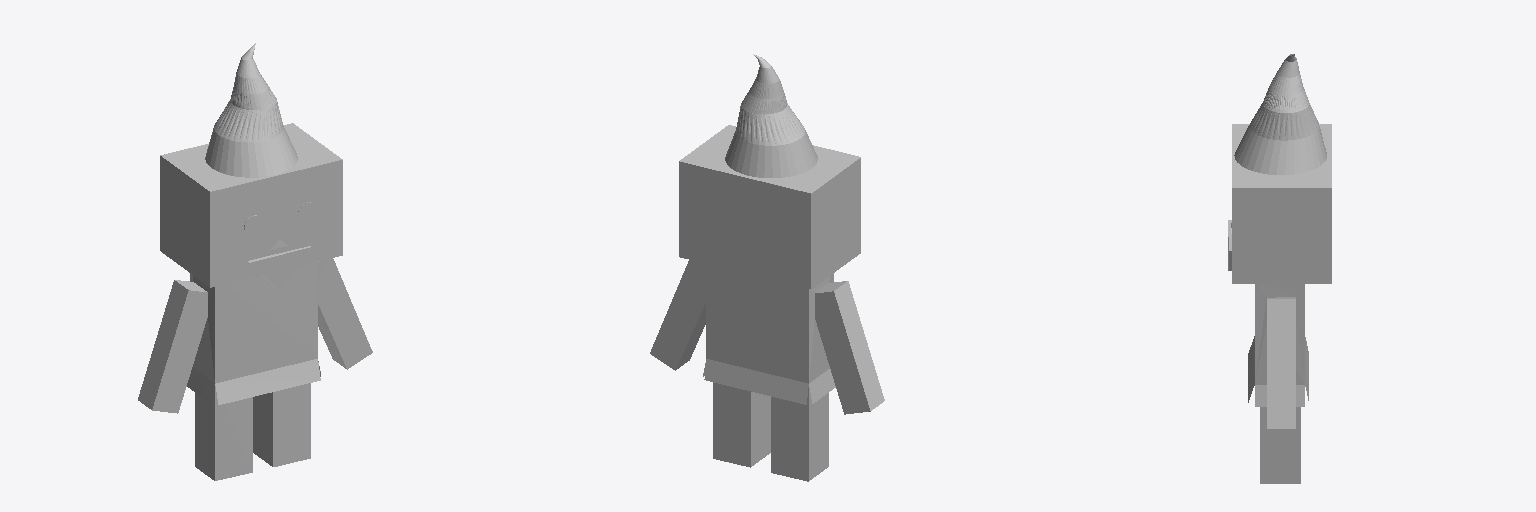
Rendered from gnome.obj.
3 views of the same model, side by side, from view 1: azimuth 30°, elevation 25°; view 2: azimuth 150°, elevation 25°; view 3: azimuth 270°, elevation 25° (orthographic).
Visible parts, largest first — view 1: Cube.005_Cube.001; view 2: Cube.005_Cube.001; view 3: Cube.005_Cube.001.
Part boxes in pixels (x1,y1,x2,y2): Cube.005_Cube.001: (138, 43, 372, 480); Cube.005_Cube.001: (650, 54, 884, 481); Cube.005_Cube.001: (1228, 54, 1331, 483).
Bounding box in the file's own units: 4.83 × 8.6 × 1.98.